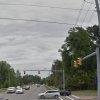Traffic light: (68, 57, 90, 80)
